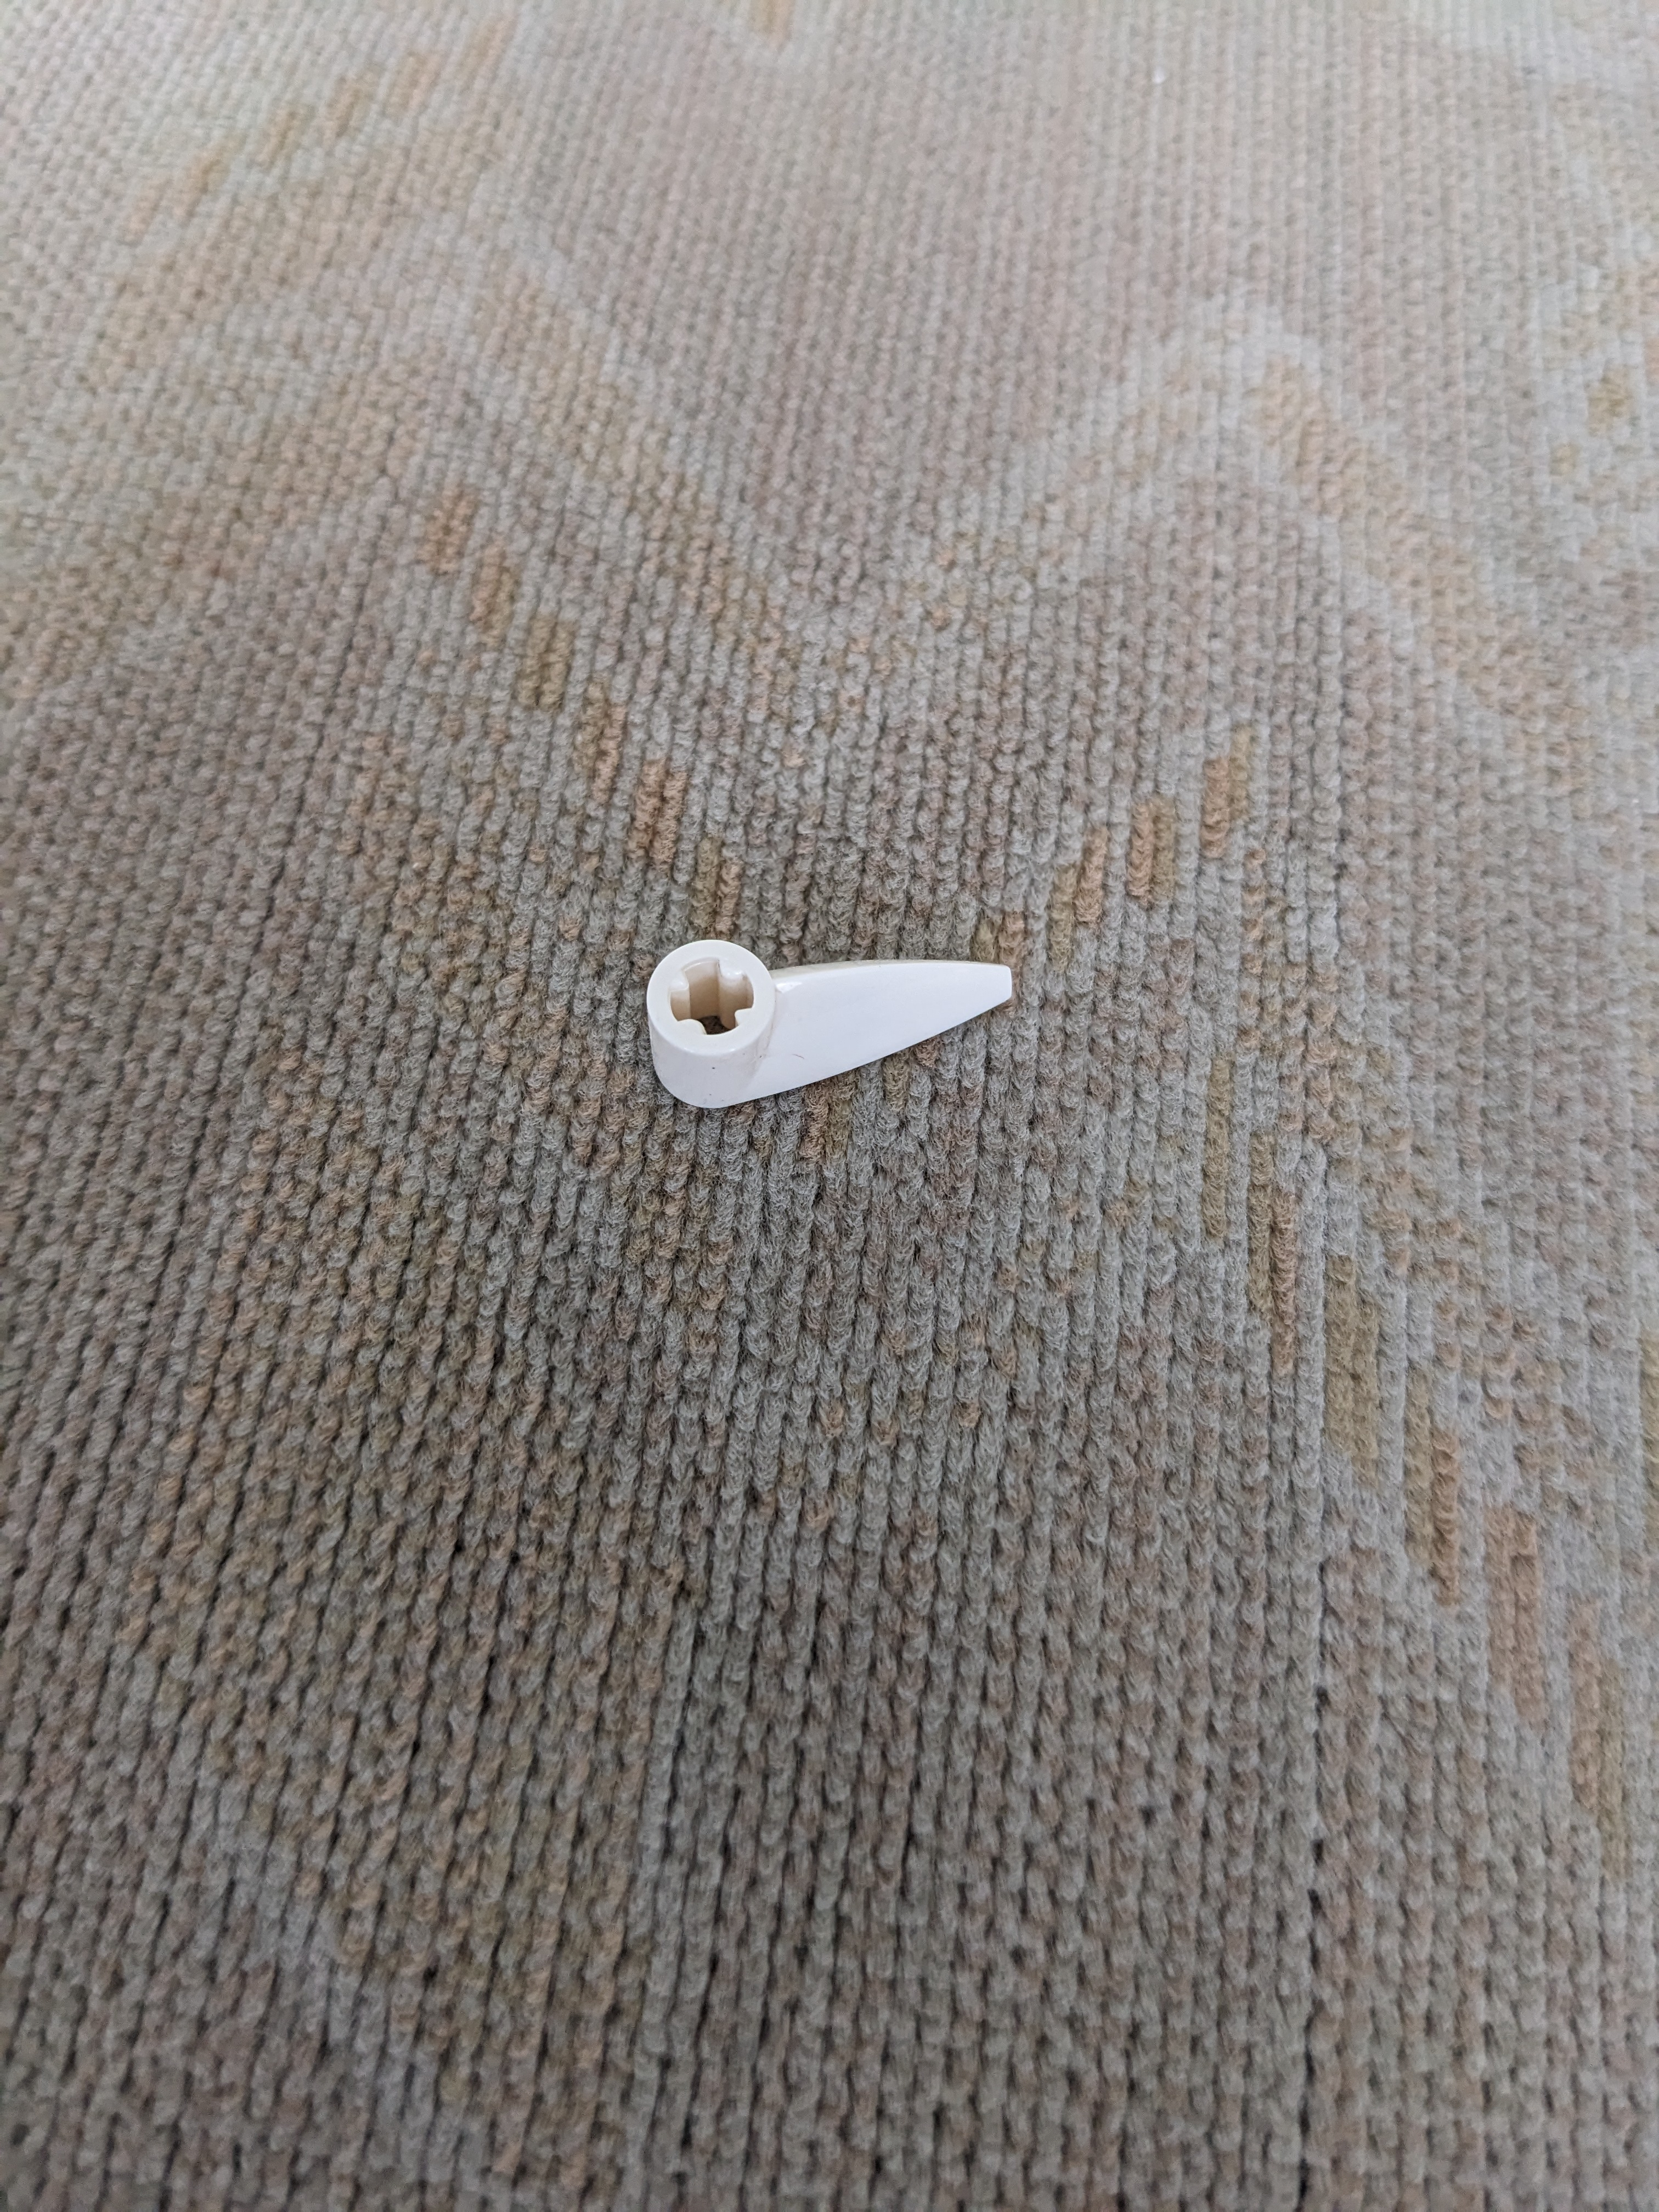Kappe: (636, 897, 1032, 1122)
